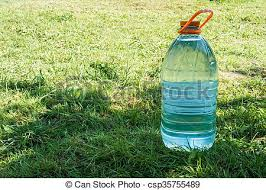plastic_bottle: (159, 12, 219, 152)
